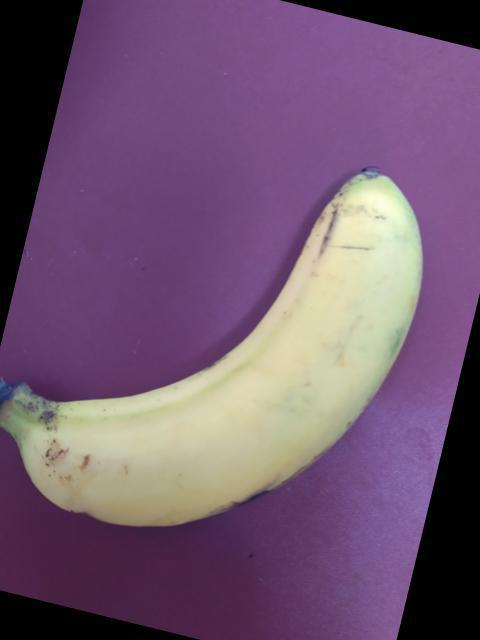freshripe: (0, 142, 434, 579)
